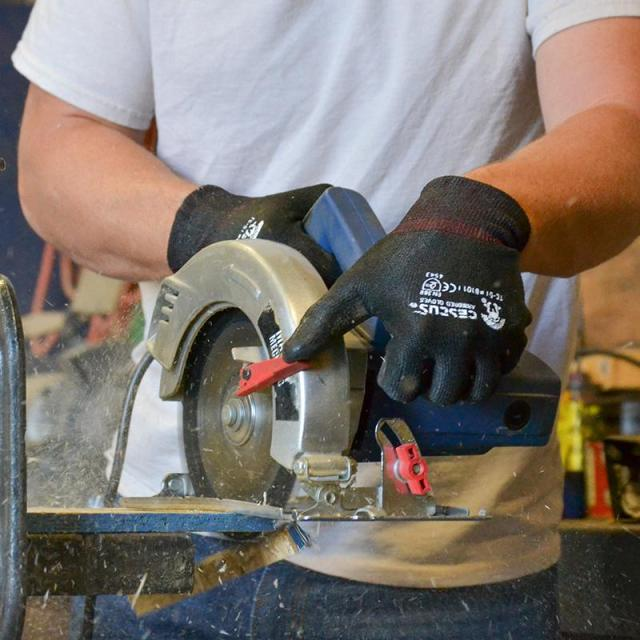gloves: (279, 177, 535, 405), (166, 182, 359, 312)
